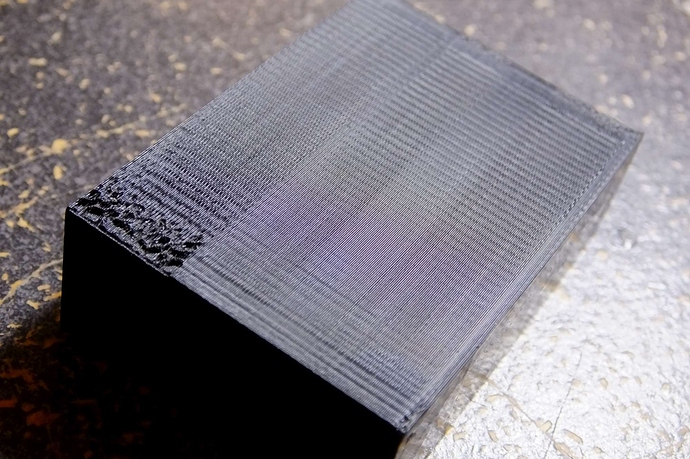under_extrusion: (57, 122, 332, 294)
